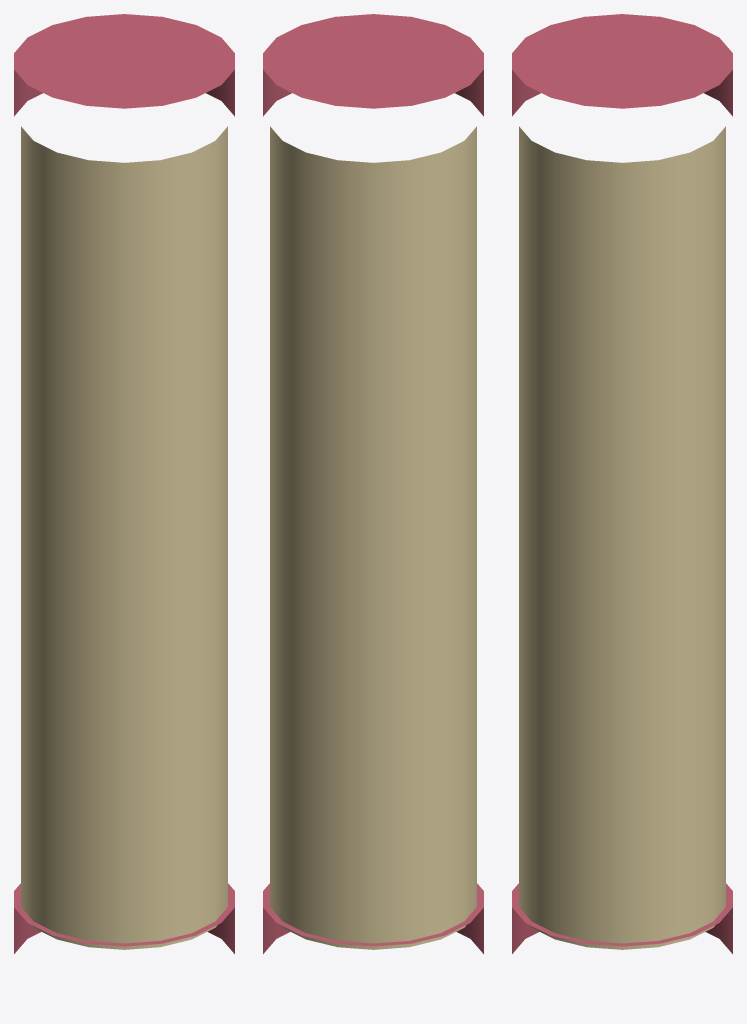
File: quest-tube.glb
3 renders of one model, left to right at view 1: azimuth 30°, elevation 25°; view 2: azimuth 150°, elevation 25°; view 3: azimuth 270°, elevation 25°, orthographic.
Parts seen in each view (by area): view 1: quest-tube; view 2: quest-tube; view 3: quest-tube.
Boxes of the visible parts, <box> form: quest-tube: <box>14,14,234,953</box>; quest-tube: <box>263,14,483,953</box>; quest-tube: <box>512,14,732,953</box>.
Bounding box in the file's own units: 0.16 × 0.71 × 0.1576.
